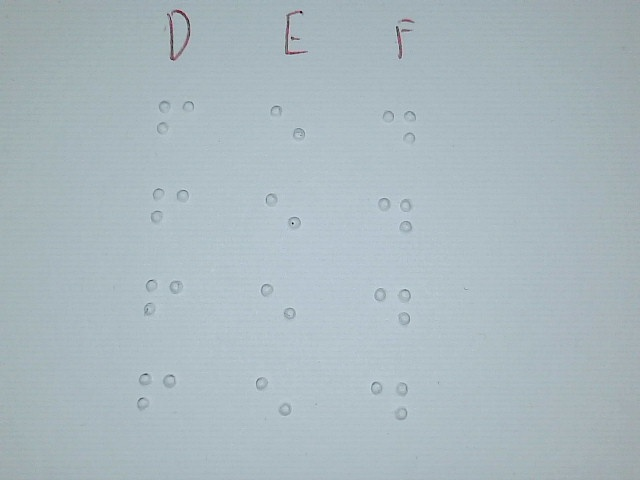D: (379, 98, 420, 163), (374, 185, 415, 250), (372, 276, 413, 341), (369, 370, 410, 435)
E: (267, 94, 308, 159), (264, 183, 305, 248), (258, 272, 299, 337), (253, 365, 294, 430)
F: (155, 87, 196, 152), (149, 176, 190, 241), (143, 265, 184, 330), (136, 360, 177, 425)
